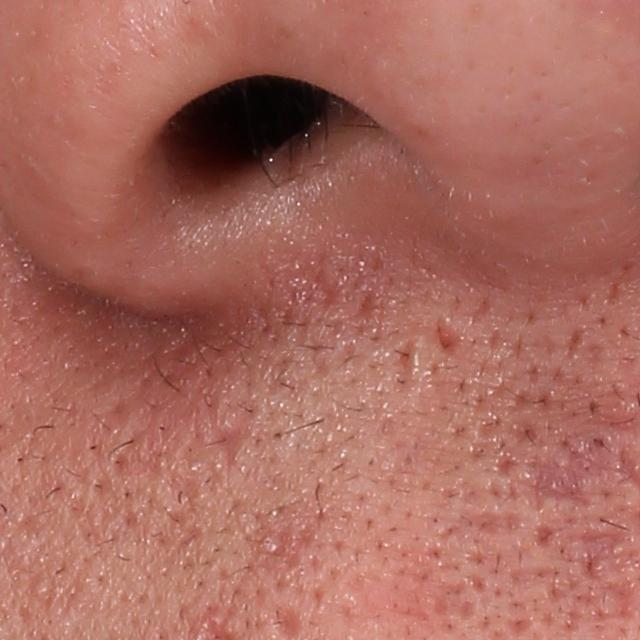atrophic_scar: (210, 406, 261, 473), (249, 524, 316, 567)
